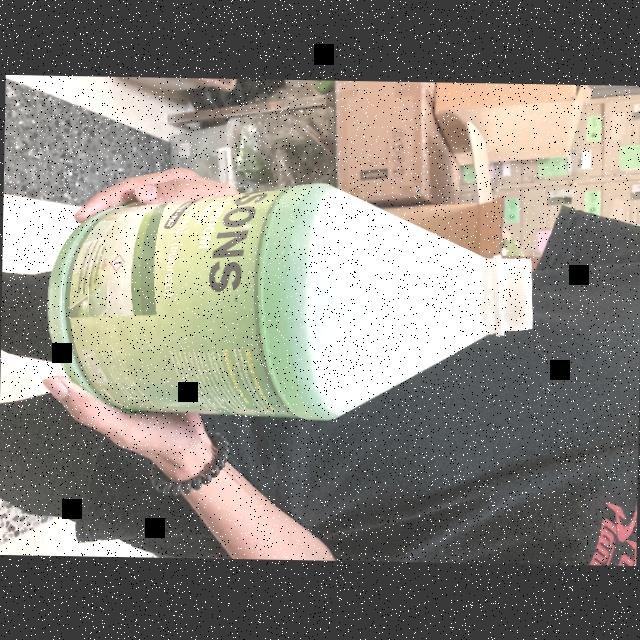chemical_plastic_gallon: (42, 176, 540, 432)
